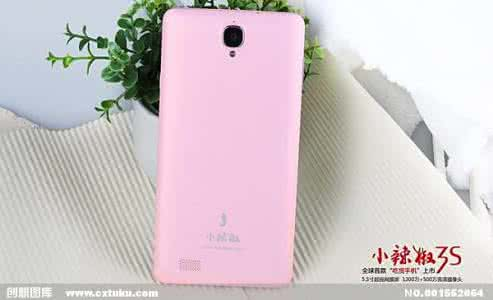phone: (166, 14, 293, 284)
